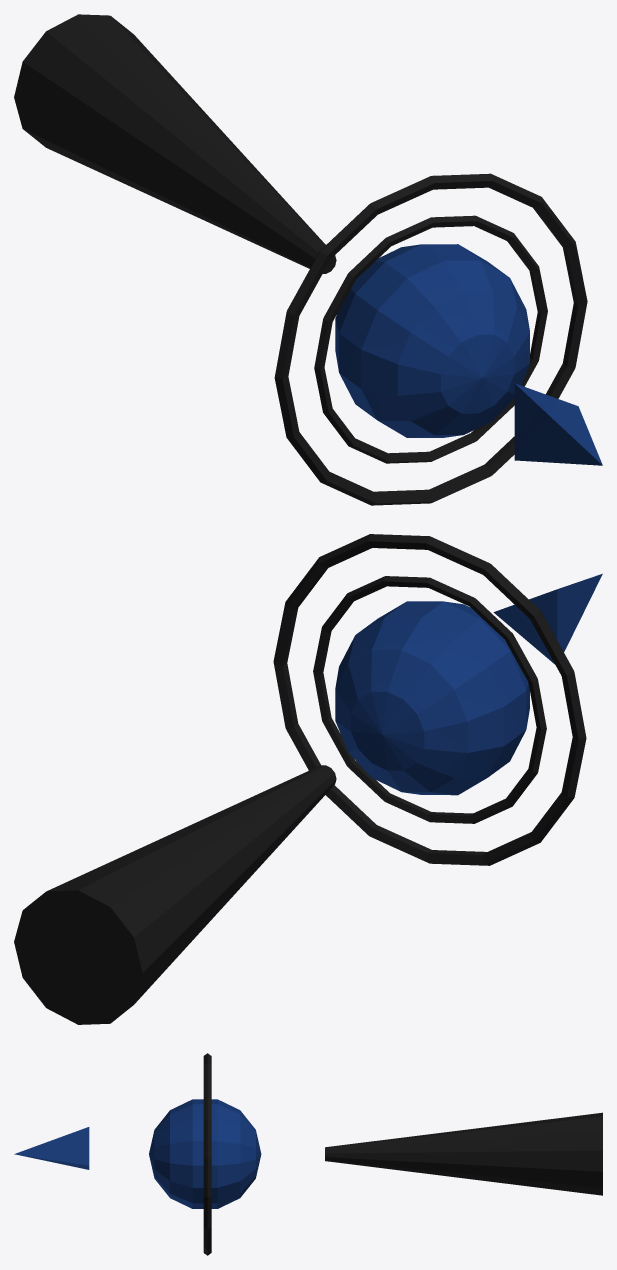
The model's file is SpaceBeacon.FBX.
3 renders of one model, top to bottom at view 1: azimuth 30°, elevation 25°; view 2: azimuth 150°, elevation 25°; view 3: azimuth 270°, elevation 25°, orthographic. The views are drawn at different scales.
Visible parts, largest first — view 1: SpaceBeacon, SpaceBeaconSphere, SpaceBeaconBigCircle, SpaceBeaconSmallCircle, SpaceBeaconTriangle; view 2: SpaceBeacon, SpaceBeaconSphere, SpaceBeaconBigCircle, SpaceBeaconSmallCircle, SpaceBeaconTriangle; view 3: SpaceBeacon, SpaceBeaconSphere, SpaceBeaconBigCircle, SpaceBeaconTriangle.
Part boxes in pixels (left/top/right/bottom): SpaceBeacon: left=14, top=14, right=336, bottom=273; SpaceBeaconSphere: left=335, top=244, right=529, bottom=437; SpaceBeaconBigCircle: left=274, top=173, right=587, bottom=505; SpaceBeaconSmallCircle: left=314, top=215, right=547, bottom=463; SpaceBeaconTriangle: left=514, top=383, right=602, bottom=465; SpaceBeacon: left=14, top=765, right=336, bottom=1024; SpaceBeaconSphere: left=335, top=601, right=529, bottom=795; SpaceBeaconBigCircle: left=273, top=534, right=586, bottom=865; SpaceBeaconSmallCircle: left=313, top=576, right=546, bottom=823; SpaceBeaconTriangle: left=493, top=573, right=602, bottom=664; SpaceBeacon: left=325, top=1112, right=602, bottom=1195; SpaceBeaconSphere: left=149, top=1099, right=261, bottom=1208; SpaceBeaconBigCircle: left=203, top=1053, right=211, bottom=1255; SpaceBeaconTriangle: left=14, top=1127, right=89, bottom=1169.
Bounding box in the file's own units: 1.46 × 1.46 × 4.24.
